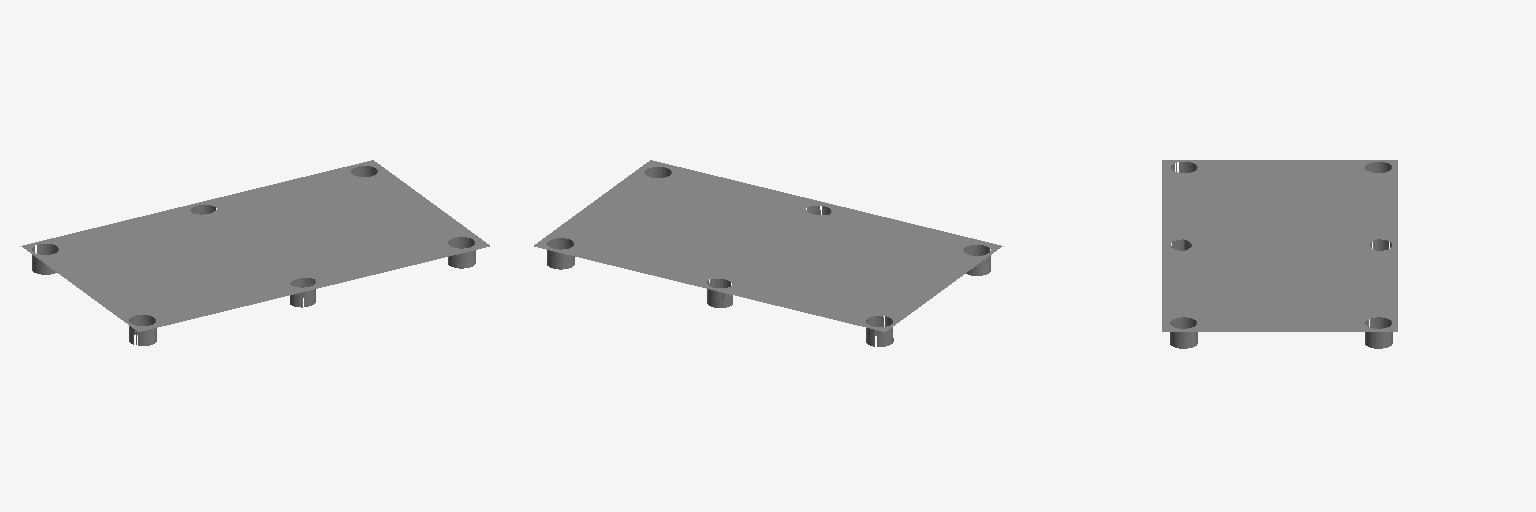
Rendered from poolTablePlane.obj.
3 renders of one model, left to right at view 1: azimuth 30°, elevation 25°; view 2: azimuth 150°, elevation 25°; view 3: azimuth 270°, elevation 25°, orthographic.
Parts seen in each view (by area): view 1: Plane01; view 2: Plane01; view 3: Plane01.
Part boxes in pixels (x1,y1,x2,y2): Plane01: (21,160,489,345); Plane01: (534,160,1002,346); Plane01: (1162,160,1397,348).
Size of the model in its own units: 68.61 by 3.67 by 39.74.